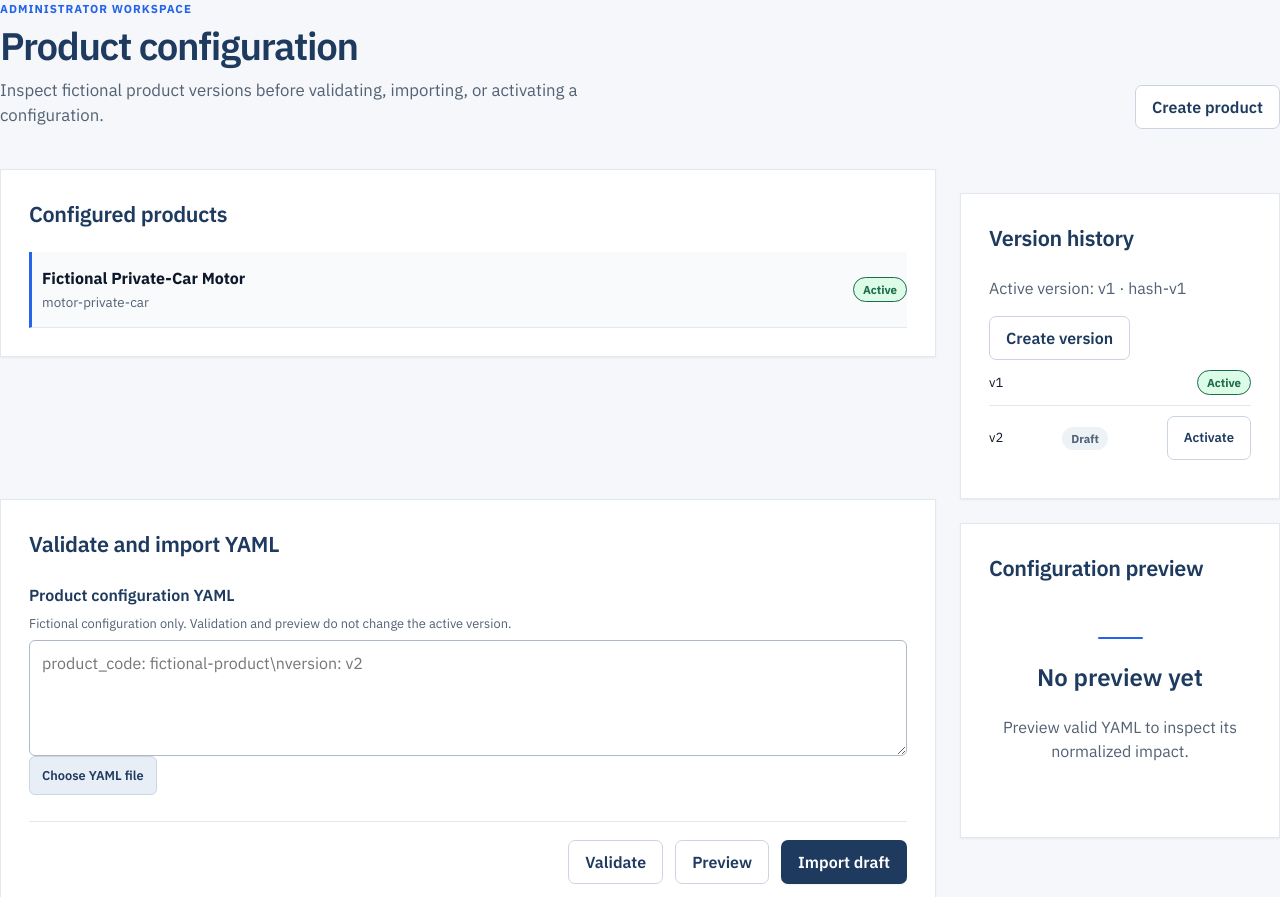
Test: product activation › activates the confirmed version and reloads the history
Click the button "Activate". click: click(1209, 438)
box: 1167,416 -> 1251,460
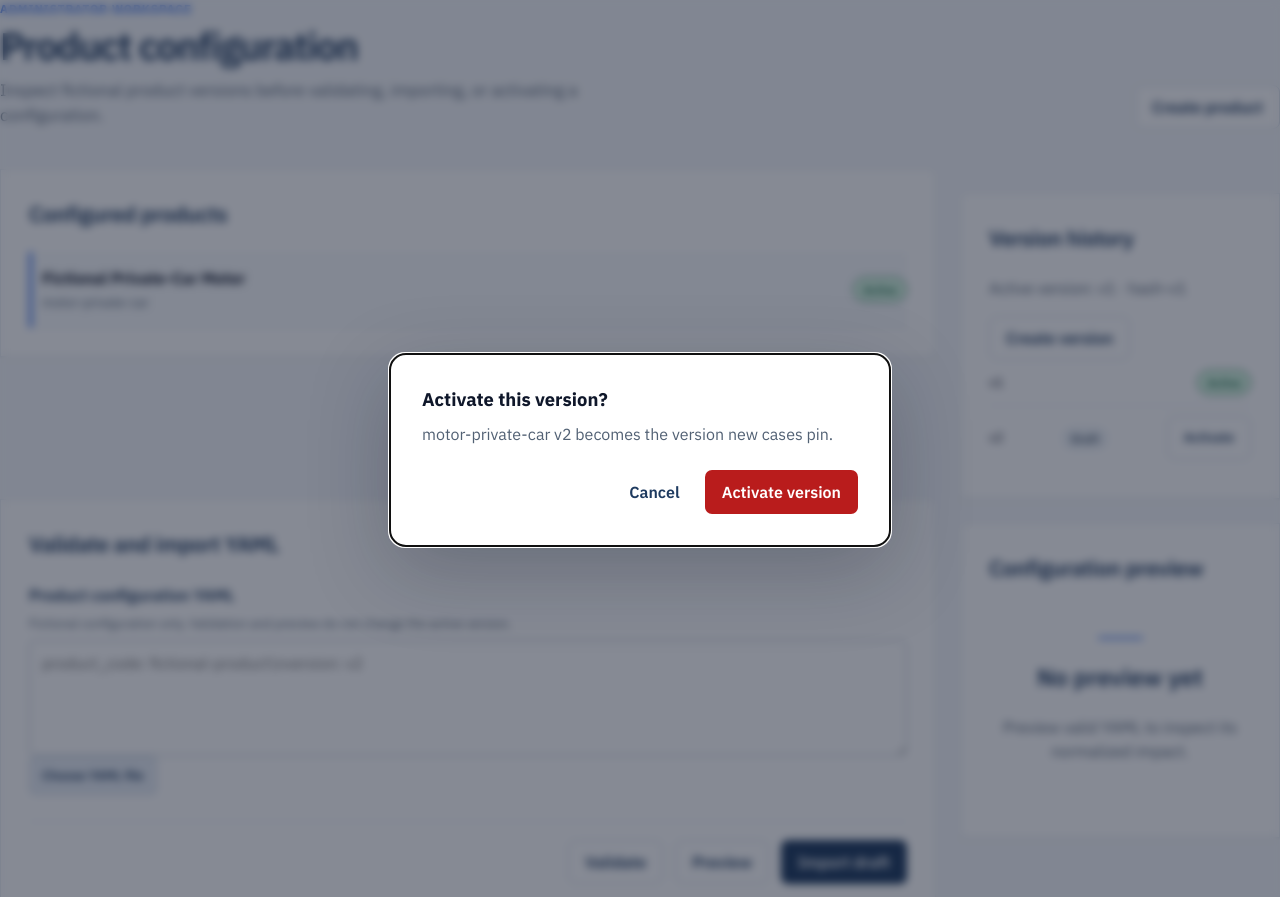
Click the button "Activate version". click: click(781, 492)
box: 705,470 -> 858,514
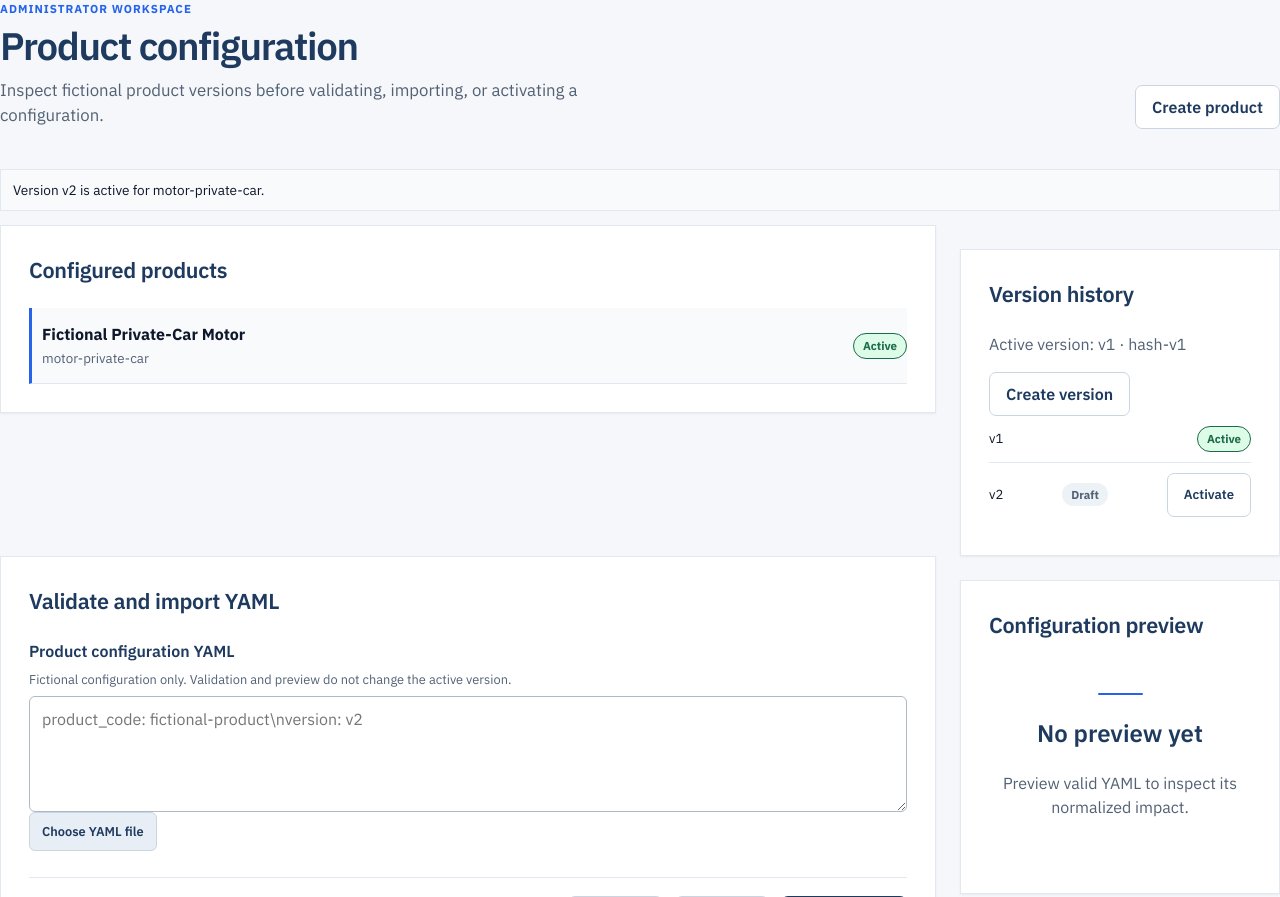
expect the dialog is gone: met
